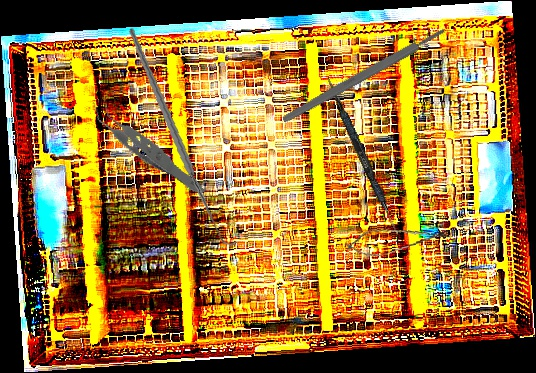Hook Surgical: (102, 26, 262, 248)
Micro Scissor: (343, 219, 453, 261)
Scalpel Handle: (280, 26, 448, 125)
Spatula Surgical: (321, 76, 407, 244)
Tissue Forceps: (89, 73, 207, 219)
